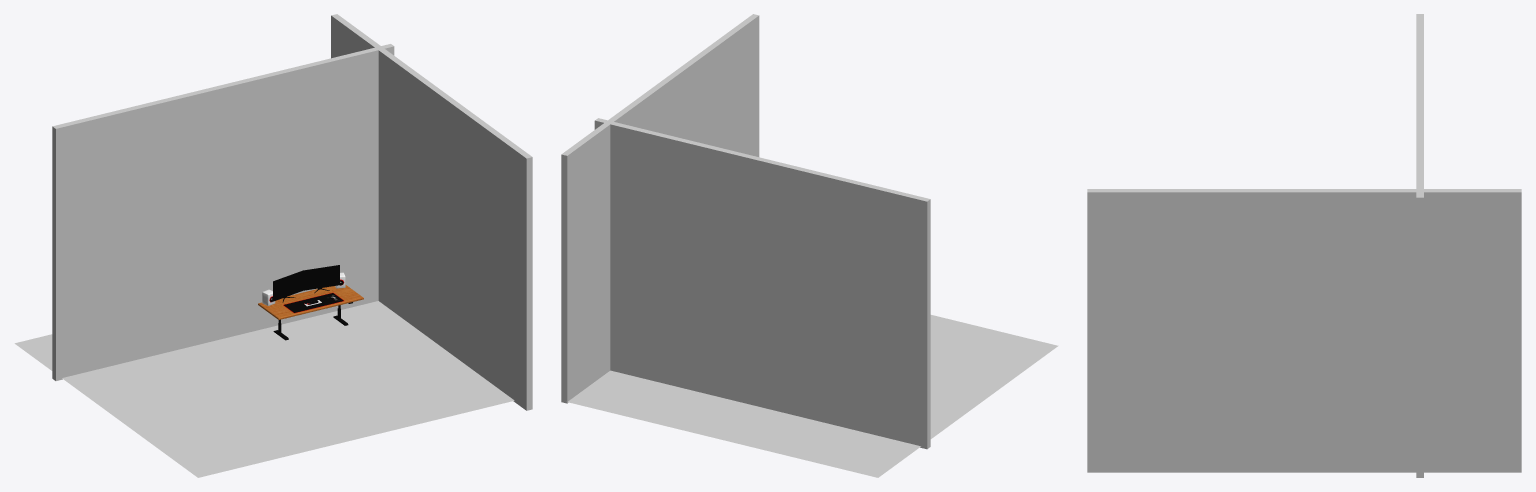
Rendered from room.fbx.
The picture shows the model from 3 angles, left to right: view 1: azimuth 30°, elevation 25°; view 2: azimuth 150°, elevation 25°; view 3: azimuth 270°, elevation 25°; orthographic projection. The views are drawn at different scales.
Visible parts, largest first — view 1: wall1, floor, wall2, tabletop, panel, panel.001; view 2: wall1, wall2, floor; view 3: wall2, wall1.
Boxes of the visible parts, box(x1,y1,x2,y2) form: wall1: box(52, 44, 394, 380); floor: box(14, 301, 514, 477); wall2: box(331, 14, 532, 410); tabletop: box(258, 285, 363, 319); panel: box(303, 265, 339, 290); panel.001: box(273, 271, 302, 300); wall1: box(594, 118, 930, 449); wall2: box(561, 14, 759, 403); floor: box(567, 315, 1058, 477); wall2: box(1087, 189, 1521, 472); wall1: box(1416, 14, 1423, 477).
Bounding box in the file's own units: 3280 × 2336 × 3281.
Materials: 11 (4 with a texture image).
